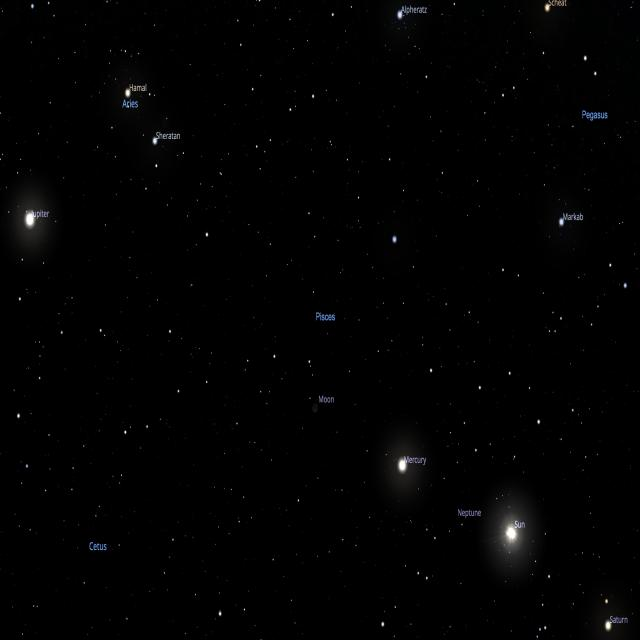Pisces: (107, 0, 542, 465)
